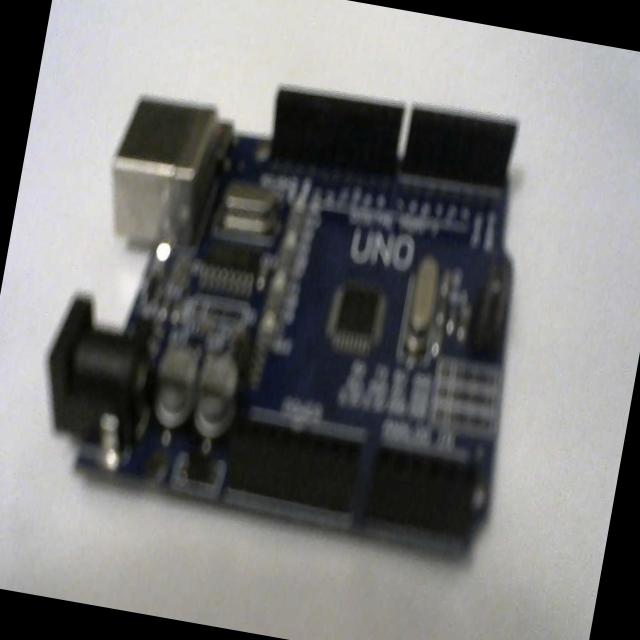arduino: (18, 34, 564, 580)
